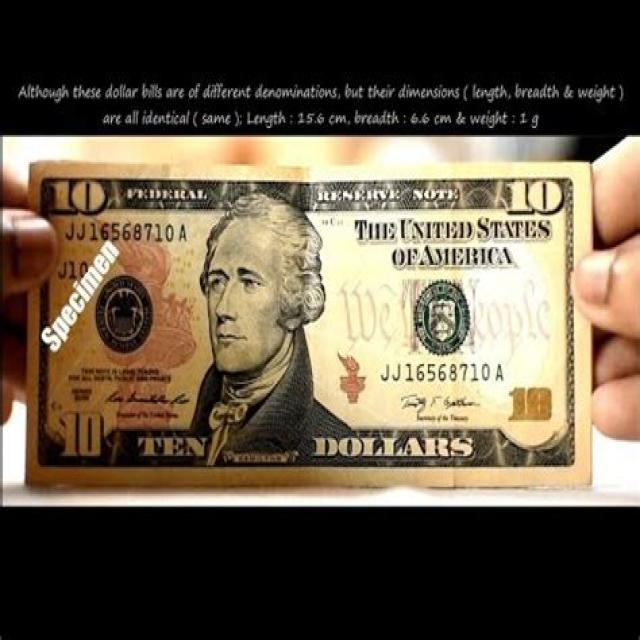Ten: (26, 161, 594, 491)
